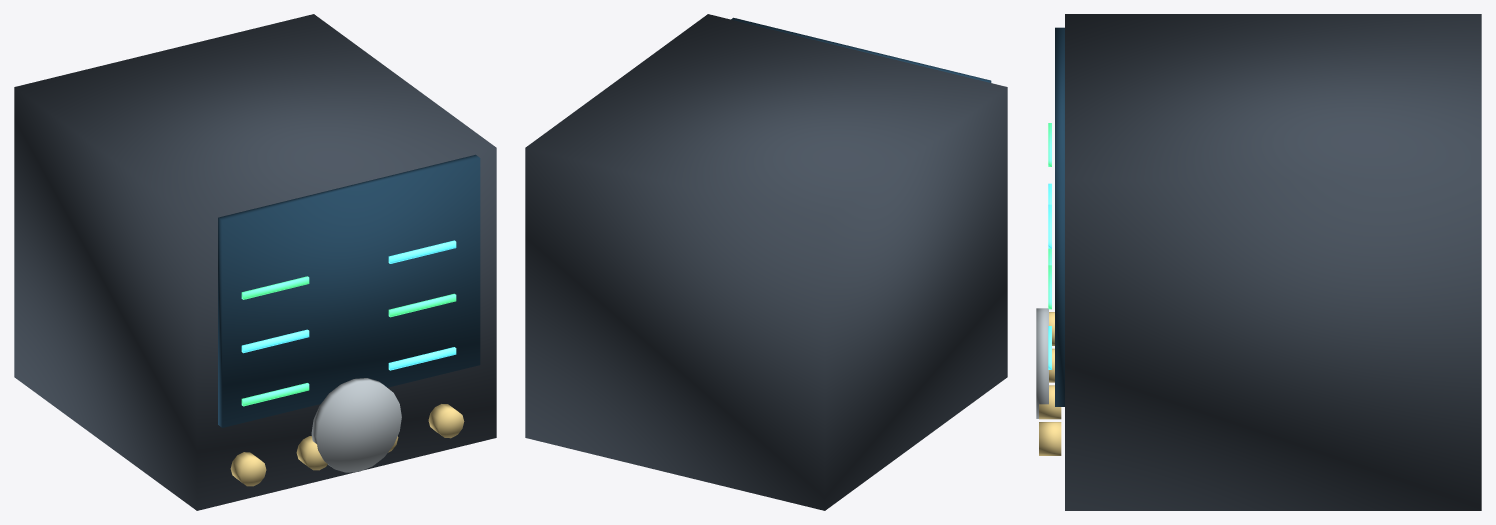
The model's file is 44_L94_BenchDigitalMultimeter.glb.
The picture shows the model from 3 angles, left to right: view 1: azimuth 30°, elevation 25°; view 2: azimuth 150°, elevation 25°; view 3: azimuth 270°, elevation 25°; orthographic projection. The views are drawn at different scales.
Parts seen in each view (by area): view 1: L94_BenchDigitalMultimeter, L94_BenchDigitalMultimeter_Part_0005; view 2: L94_BenchDigitalMultimeter; view 3: L94_BenchDigitalMultimeter, L94_BenchDigitalMultimeter_Part_0005.
Boxes of the visible parts, <box> form: L94_BenchDigitalMultimeter: <box>14,14,496,510</box>; L94_BenchDigitalMultimeter_Part_0005: <box>311,378,401,472</box>; L94_BenchDigitalMultimeter: <box>525,14,1007,510</box>; L94_BenchDigitalMultimeter: <box>1039,14,1481,510</box>; L94_BenchDigitalMultimeter_Part_0005: <box>1036,308,1048,418</box>.
Bounding box in the file's own units: 0.53 × 0.49 × 0.5985.
